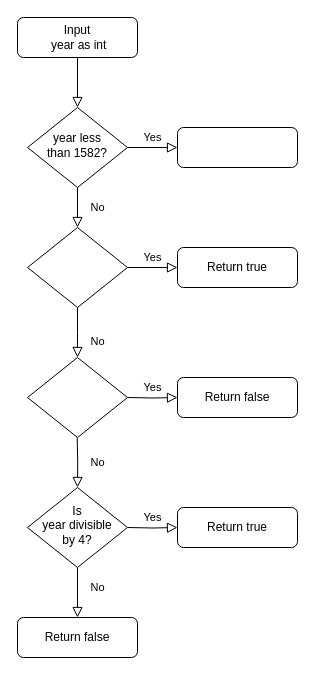
This 315x675 diagram has some shape labels left out. Here are the shapes that lost their labels. From the top down, the centre of each, then its label:
At pixel 237 147: "Throw exception".
At pixel 77 267: "Is year divisible by 400?".
At pixel 77 397: "Is year divisible by 100?".
